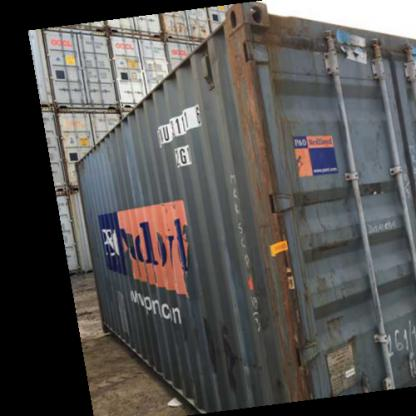Damage: (239, 71, 284, 227), (193, 310, 240, 351), (261, 9, 304, 49), (332, 29, 375, 68), (296, 191, 322, 249), (322, 305, 353, 344), (200, 47, 220, 83)
